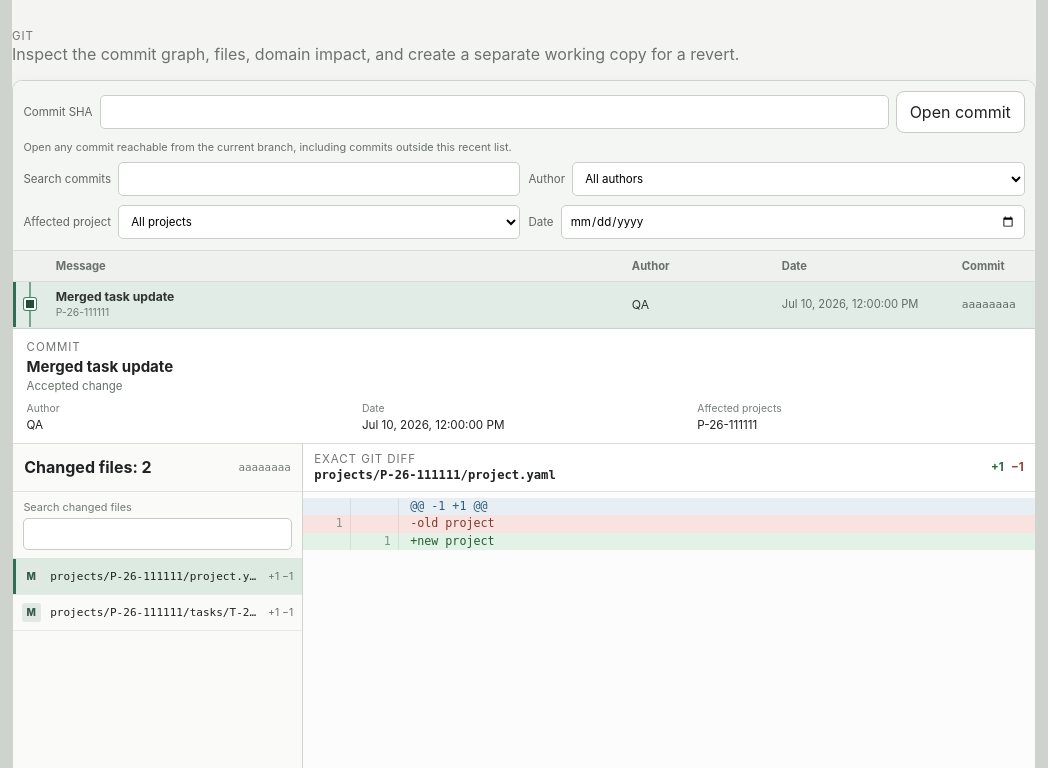
Test: History workspace › loads each file's diff on demand from the per-file endpoint
This screenshot has width=1048, height=768.
Expected: the text "-old project" is shown, [410,516,494,530]
Expected: the text "-old task" is not shown
Click the button "M projects/P-26-111111/tasks/T-26-222222.yaml +1 −1": click(158, 613) [13,595,302,631]
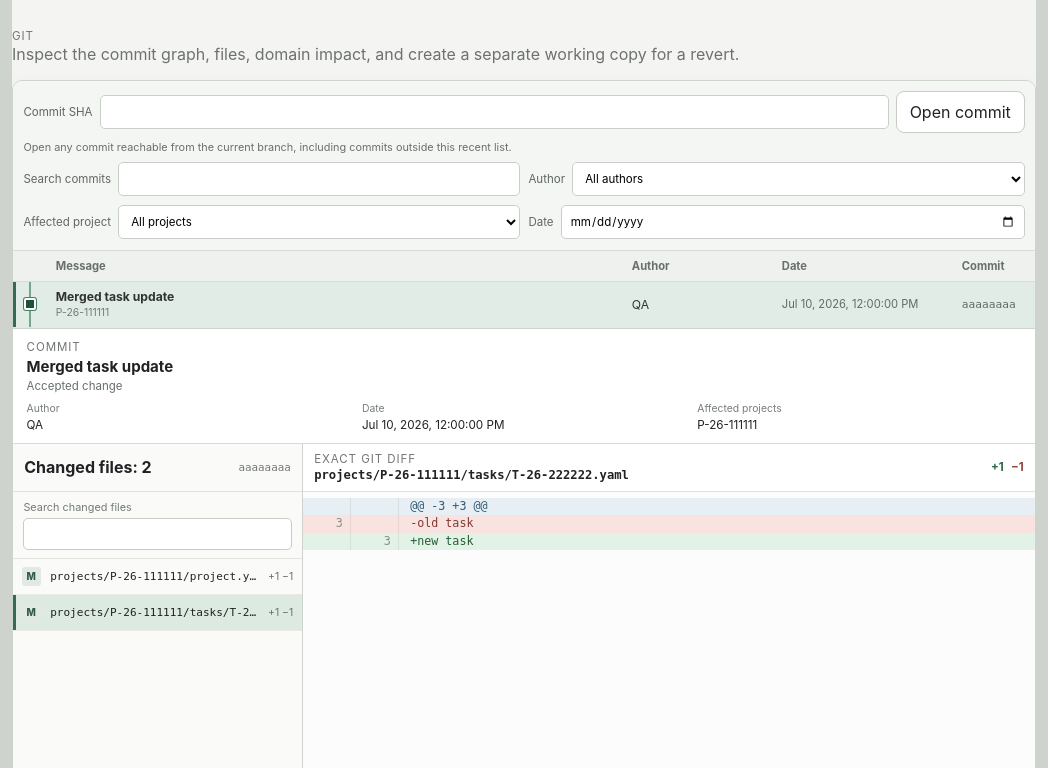
Expected: the text "-old task" is shown, [410,516,474,530]
Expected: the text "-old project" is gone
